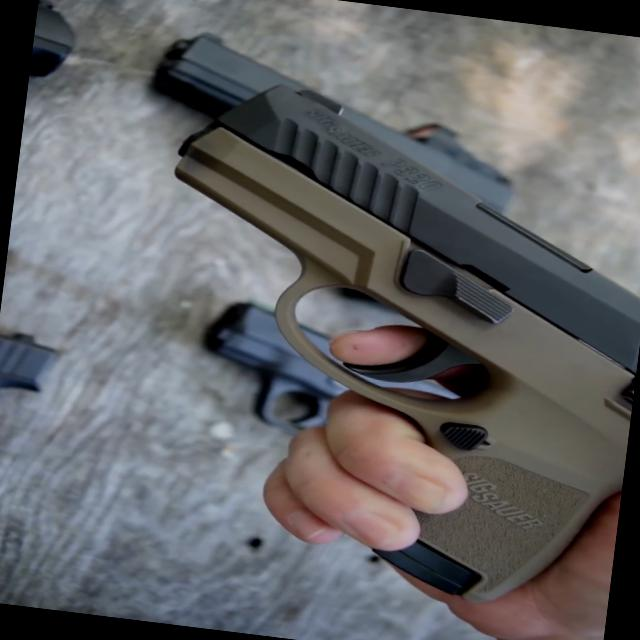handgun: (157, 68, 639, 631), (110, 8, 522, 284)
